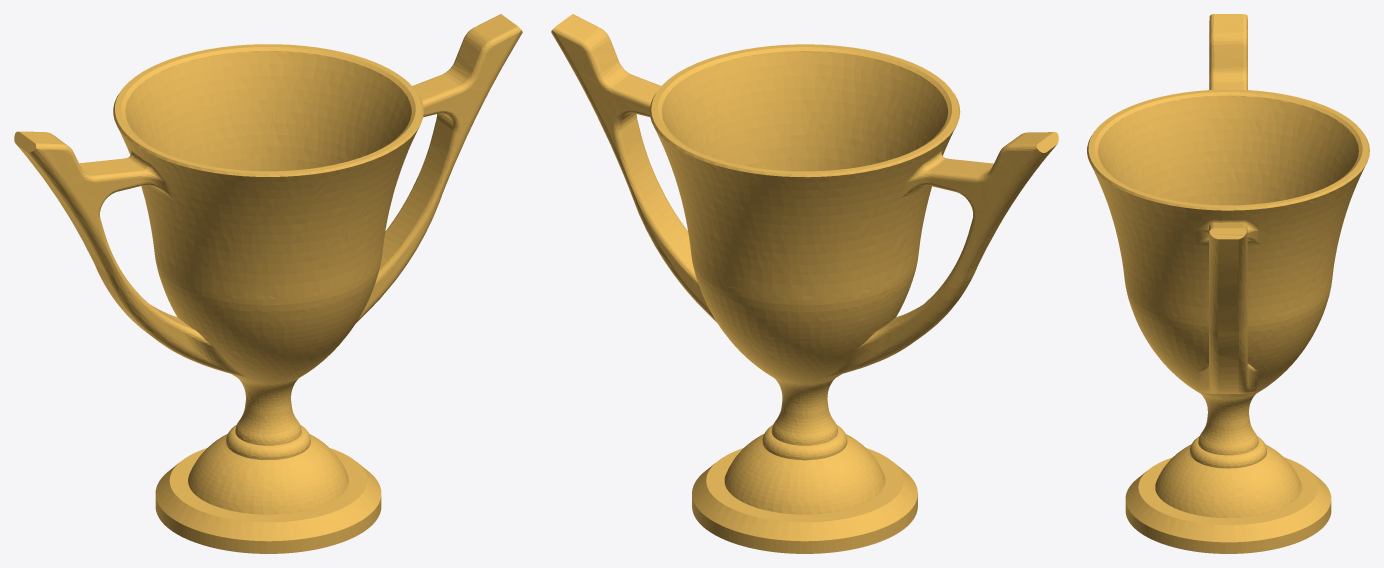
Rendered from Trophy.glb.
3 renders of one model, left to right at view 1: azimuth 30°, elevation 25°; view 2: azimuth 150°, elevation 25°; view 3: azimuth 270°, elevation 25°, orthographic. The views are drawn at different scales.
Bounding box in the file's own units: 0.0641 × 0.053 × 0.0349.
